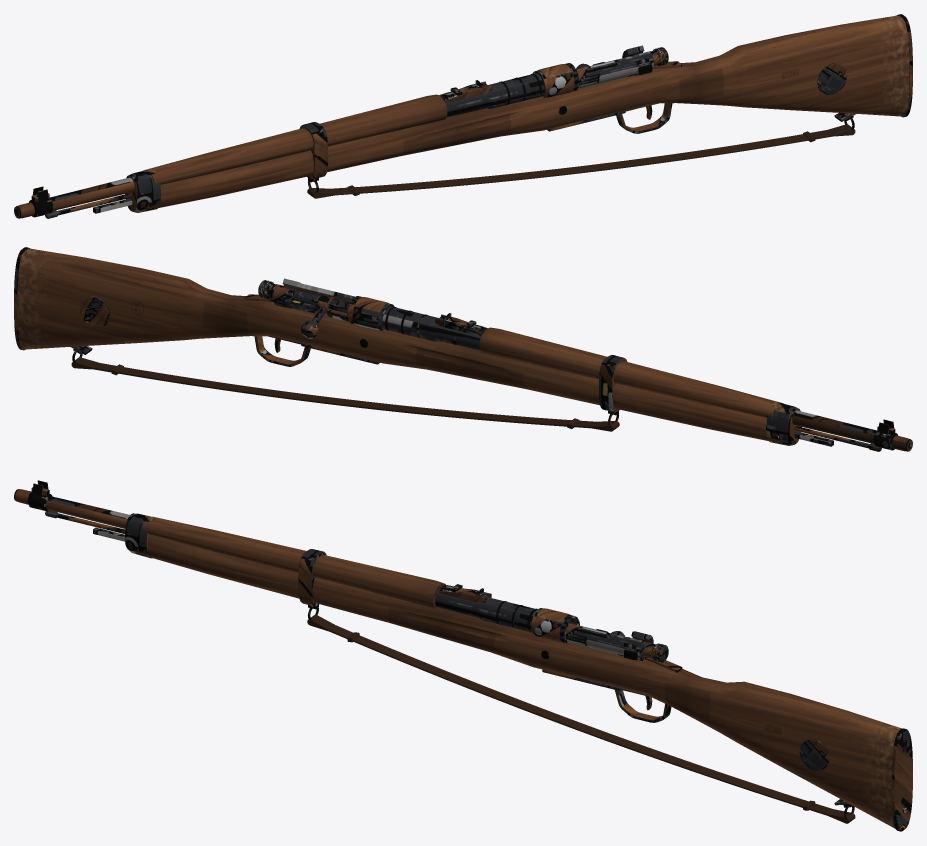
The model's file is afm41_pathfinder_lod1.fbx.
The picture shows the model from 3 angles, top to bottom: view 1: azimuth 30°, elevation 25°; view 2: azimuth 150°, elevation 25°; view 3: azimuth 330°, elevation 25°; orthographic projection.
Visible parts, largest first — view 1: M41_LOD_1; view 2: M41_LOD_1; view 3: M41_LOD_1.
Part boxes in pixels (x1=…): M41_LOD_1: x1=14, y1=14, x2=912, y2=218; M41_LOD_1: x1=14, y1=247, x2=912, y2=451; M41_LOD_1: x1=14, y1=480, x2=912, y2=831.
Bounding box in the file's own units: 125 × 7.3 × 18.94.
